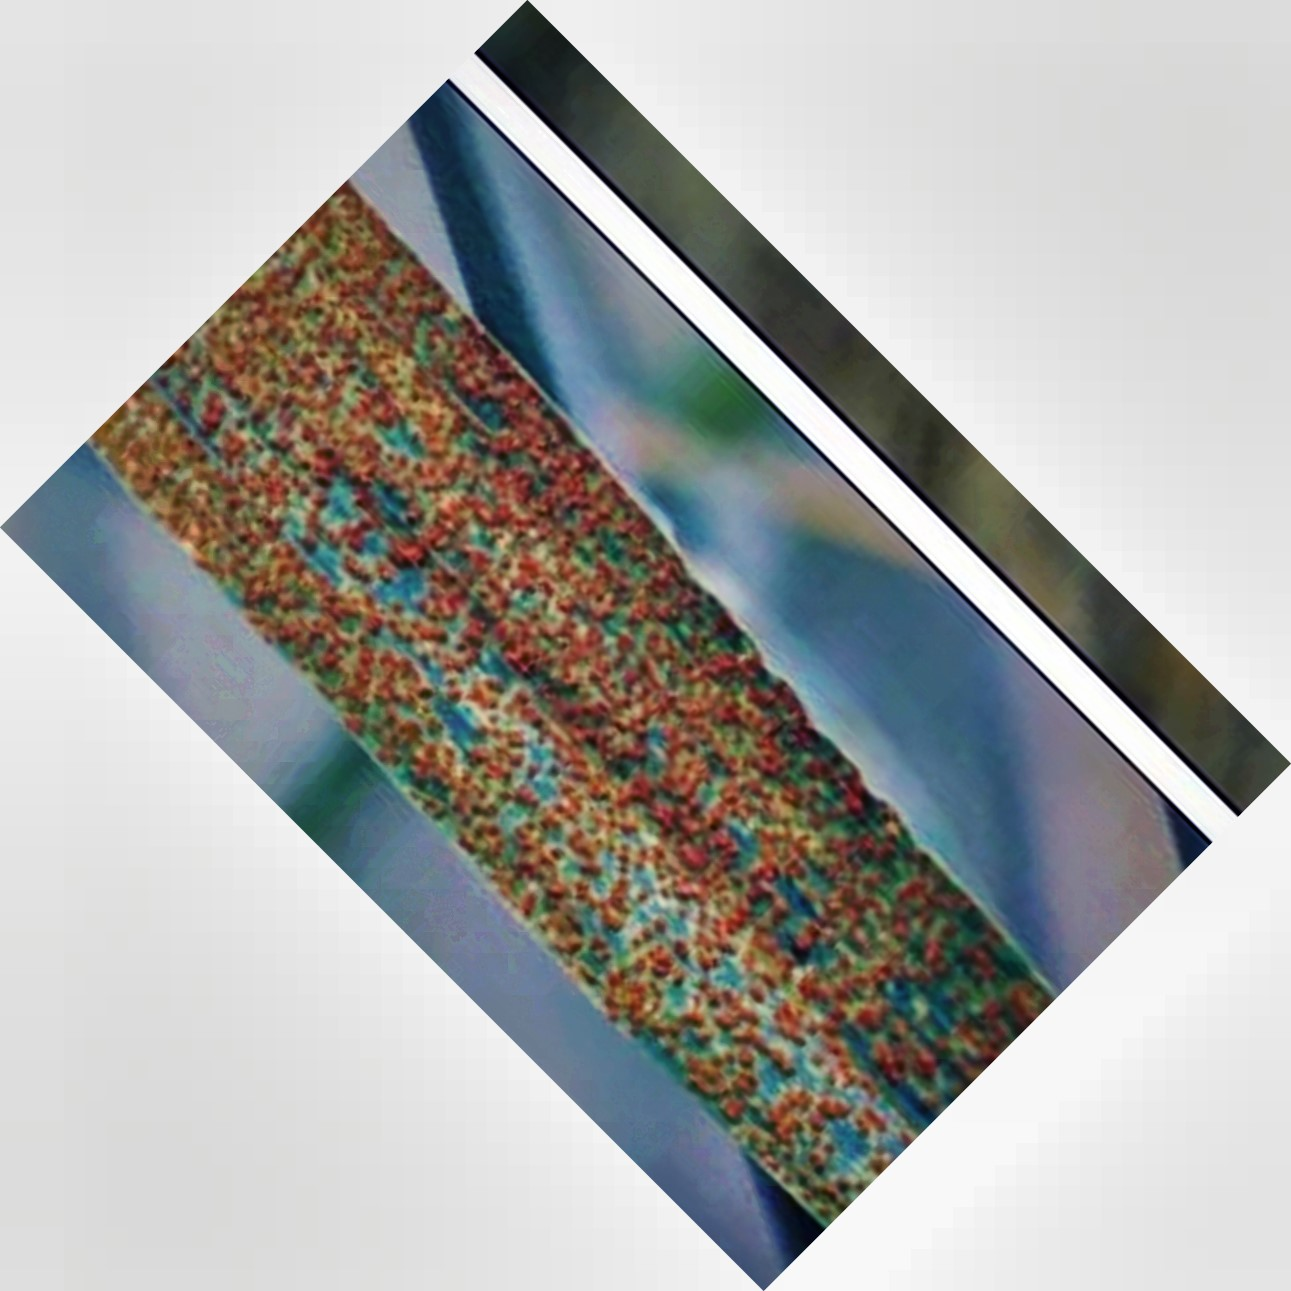Leaf Rust: (189, 314, 960, 1097)
